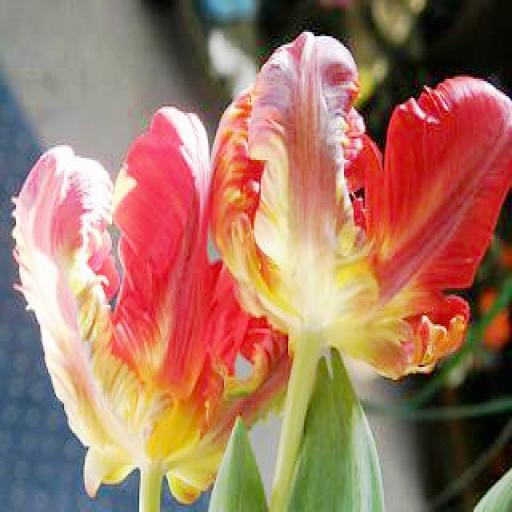tulip: (211, 23, 512, 382), (11, 109, 290, 482)
